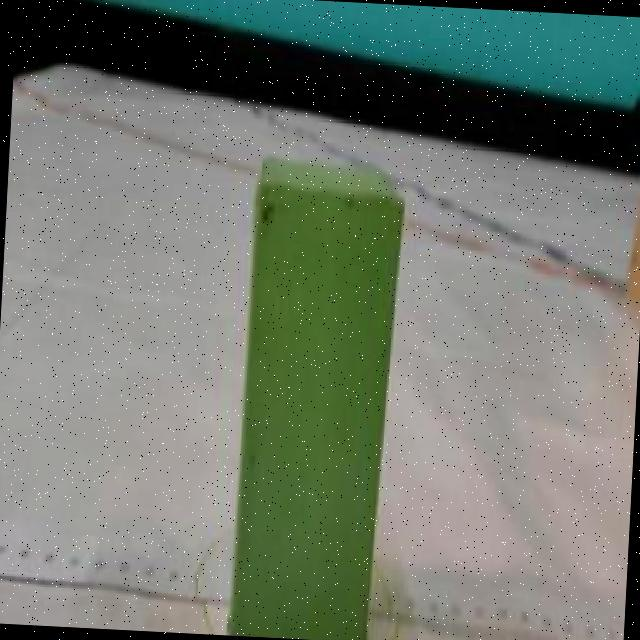greenbox: (223, 149, 408, 640)
